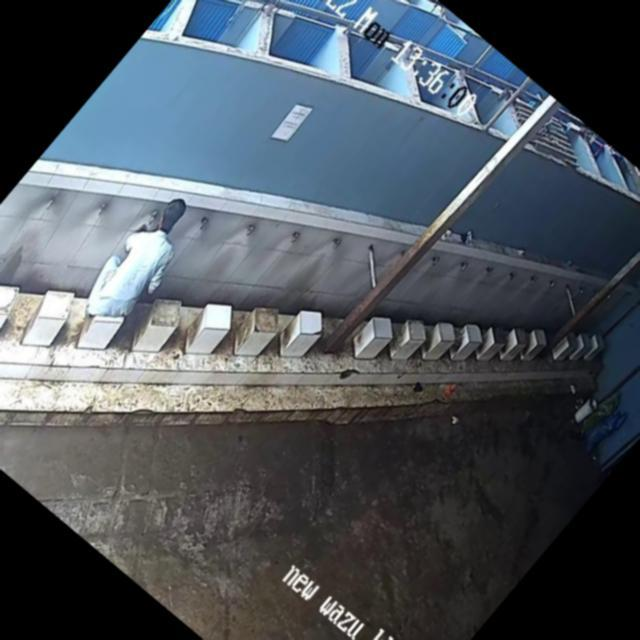person: (84, 192, 205, 324)
